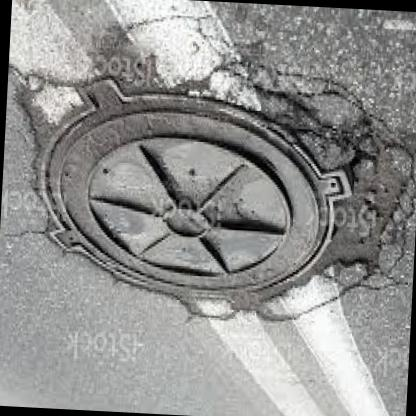manholes: (17, 63, 372, 340)
